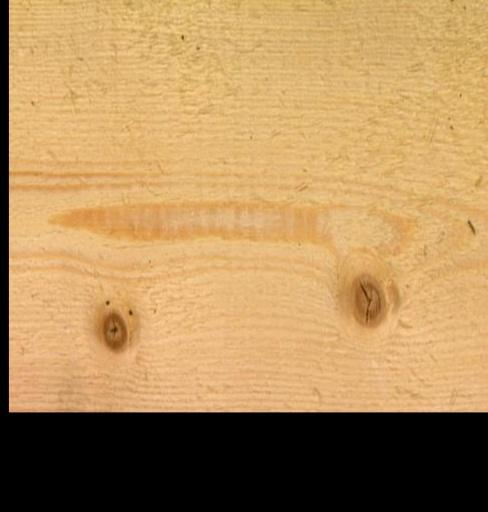sound_knot: (344, 273, 385, 329), (99, 310, 125, 350)
